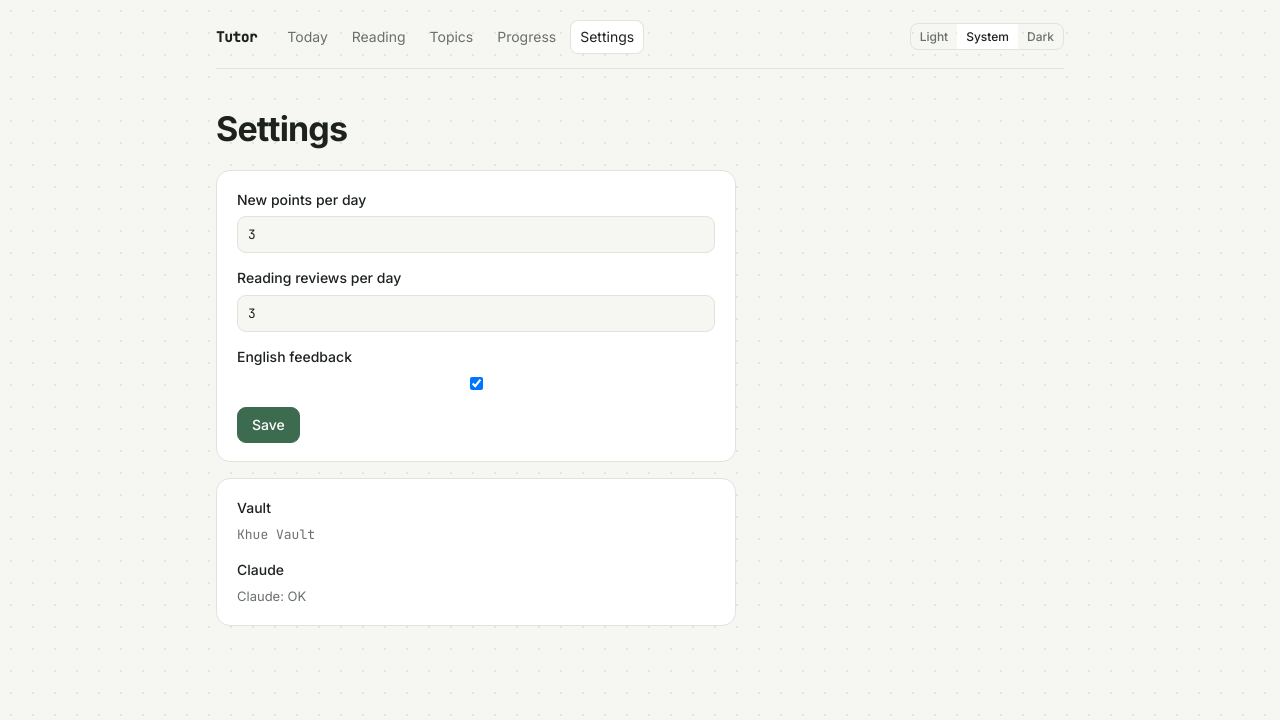
Scenario: settings saves reading reviews per day
This screenshot has width=1280, height=720.
Step 1. Replace the text in the number field labelled "Reading reviews per day" with "0" → (476, 314), box [237,295,715,332]
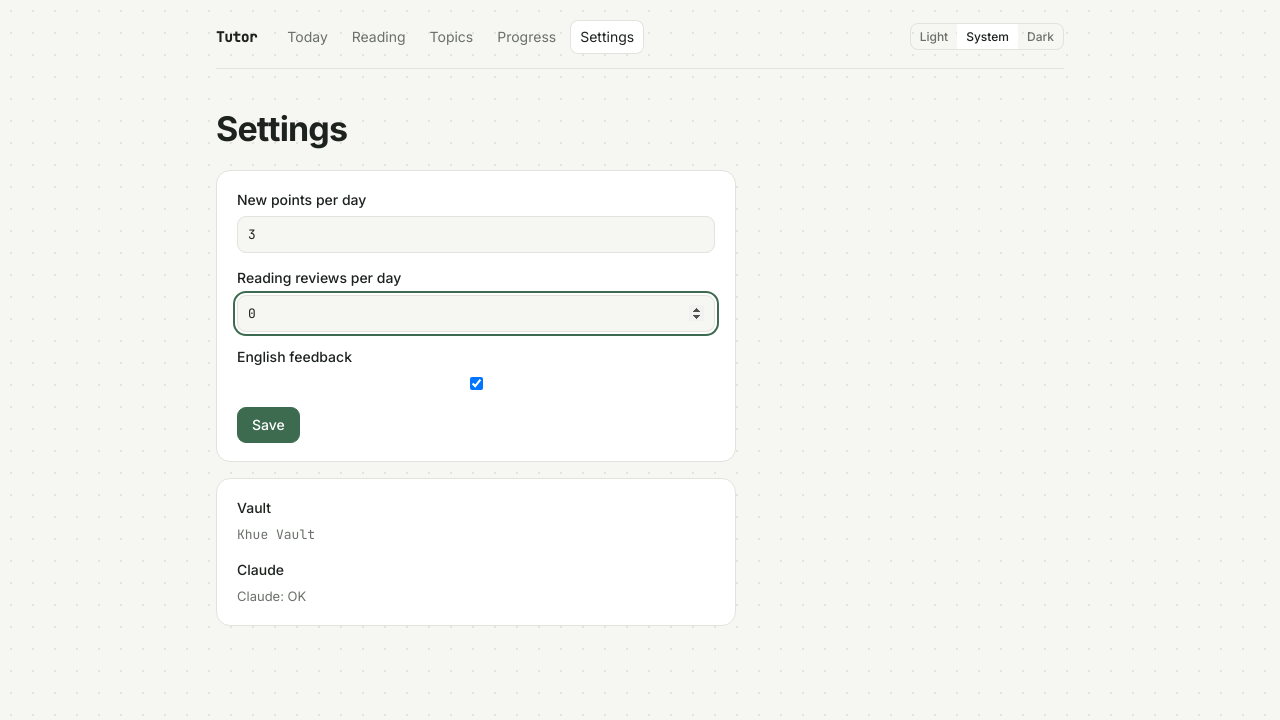
Step 2. Click the button "Save" → (268, 425), box [237,407,300,443]
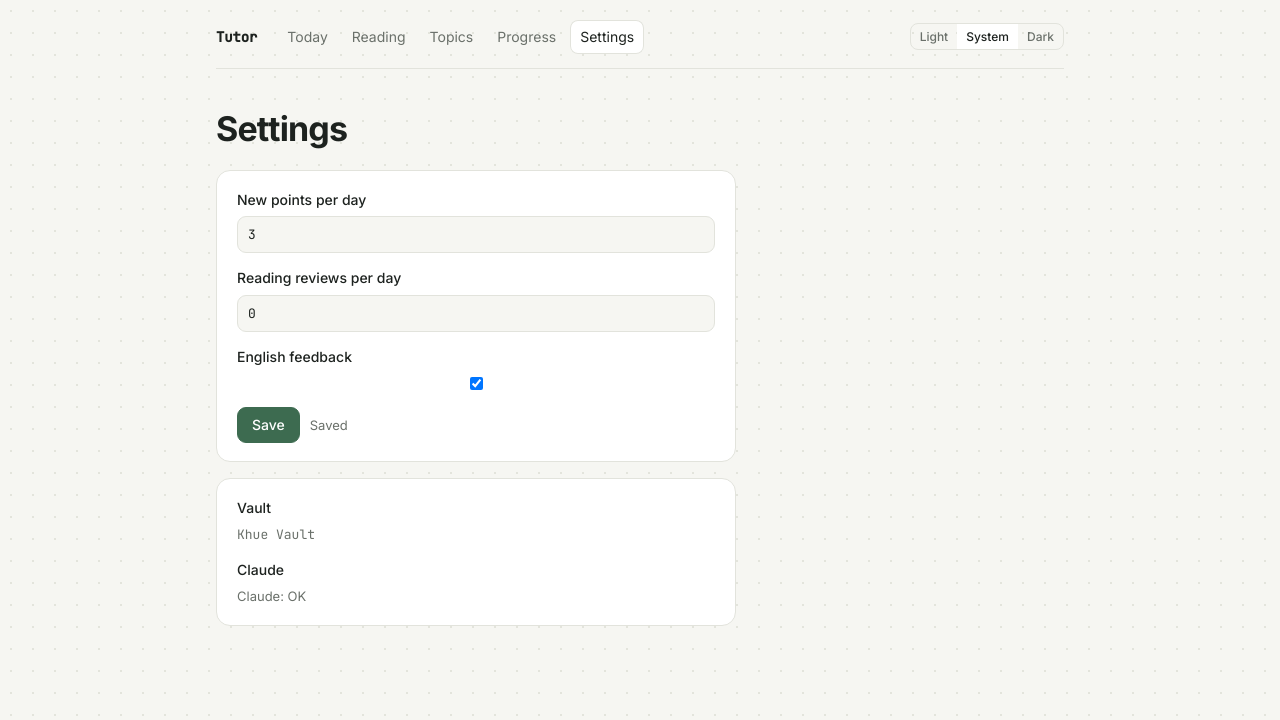
Now the text "Saved" is shown, box [310,415,348,435]
